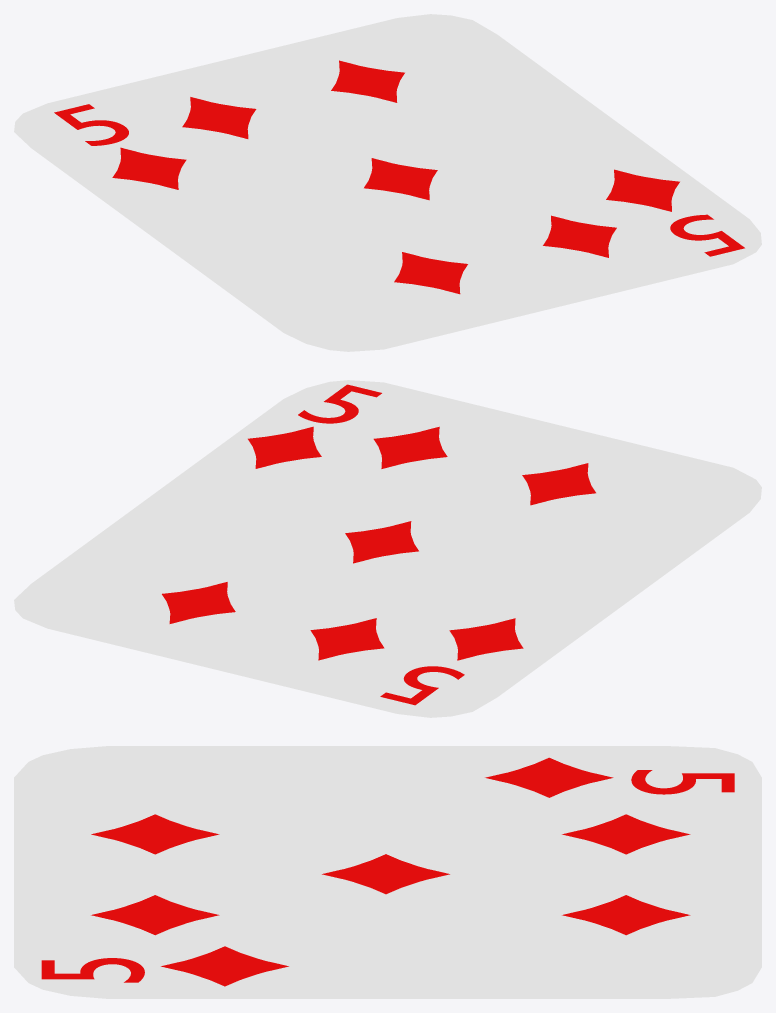
3 renders of one model, top to bottom at view 1: azimuth 30°, elevation 25°; view 2: azimuth 150°, elevation 25°; view 3: azimuth 270°, elevation 25°, orthographic. The views are drawn at different scales.
Visible parts, largest first — view 1: 5ofDiamonds, AceSpadesFro_Whit.031, Plane.022_Materia, Plane.025_Materia, Plane.026_Materia, Plane.021_Materia, Plane.024_Materia, Plane.023_Materia, Plane.020_Materia, Font.010_Bla_Blac.001, Font.009_Bla_Blac.001; view 2: 5ofDiamonds, AceSpadesFro_Whit.031, Plane.021_Materia, Plane.022_Materia, Plane.024_Materia, Plane.025_Materia, Plane.020_Materia, Plane.023_Materia, Plane.026_Materia, Font.009_Bla_Blac.001, Font.010_Bla_Blac.001; view 3: 5ofDiamonds, AceSpadesFro_Whit.031, Plane.025_Materia, Plane.026_Materia, Plane.020_Materia, Plane.024_Materia, Plane.021_Materia, Plane.022_Materia, Plane.023_Materia, Font.010_Bla_Blac.001, Font.009_Bla_Blac.001.
Part boxes in pixels (box(x1,y1,x2,y2)): 5ofDiamonds: box(14, 14, 711, 351); AceSpadesFro_Whit.031: box(142, 14, 761, 351); Plane.022_Materia: box(112, 147, 186, 189); Plane.025_Materia: box(394, 252, 467, 294); Plane.026_Materia: box(364, 158, 437, 200); Plane.021_Materia: box(331, 60, 404, 102); Plane.024_Materia: box(182, 97, 256, 138); Plane.023_Materia: box(606, 169, 679, 211); Plane.020_Materia: box(543, 215, 616, 257); Font.010_Bla_Blac.001: box(670, 214, 744, 256); Font.009_Bla_Blac.001: box(54, 104, 128, 145); 5ofDiamonds: box(42, 380, 761, 717); AceSpadesFro_Whit.031: box(14, 380, 653, 717); Plane.021_Materia: box(162, 582, 235, 623); Plane.022_Materia: box(449, 618, 523, 660); Plane.024_Materia: box(310, 618, 384, 660); Plane.025_Materia: box(522, 463, 595, 505); Plane.020_Materia: box(373, 426, 447, 468); Plane.023_Materia: box(248, 426, 321, 468); Plane.026_Materia: box(345, 521, 418, 563); Font.009_Bla_Blac.001: box(380, 666, 464, 705); Font.010_Bla_Blac.001: box(298, 384, 381, 423); 5ofDiamonds: box(14, 746, 761, 998); AceSpadesFro_Whit.031: box(14, 833, 761, 998); Plane.025_Materia: box(91, 814, 219, 854); Plane.026_Materia: box(322, 854, 449, 894); Plane.020_Materia: box(91, 895, 219, 935); Plane.024_Materia: box(562, 814, 690, 854); Plane.021_Materia: box(562, 895, 690, 935); Plane.022_Materia: box(485, 757, 613, 797); Plane.023_Materia: box(161, 946, 288, 986); Font.010_Bla_Blac.001: box(41, 958, 144, 982); Font.009_Bla_Blac.001: box(631, 770, 734, 794).
Bounding box in the file's own units: 1.6 × 0.00974 × 2.
